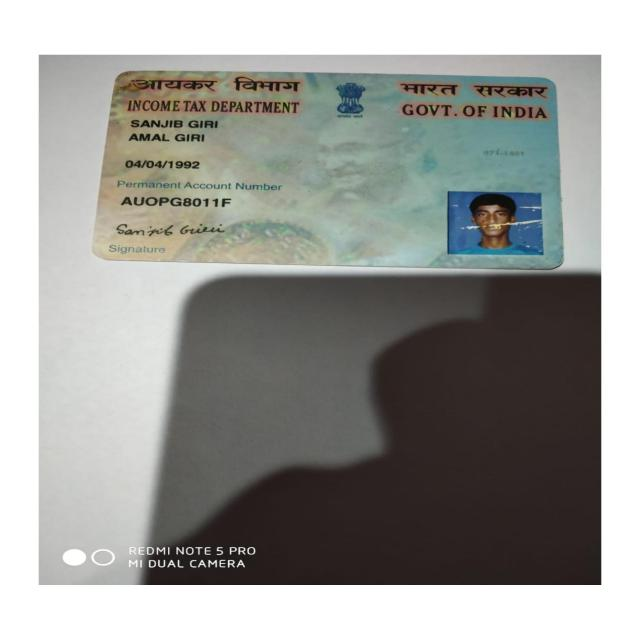pan_card: (97, 73, 559, 271)
